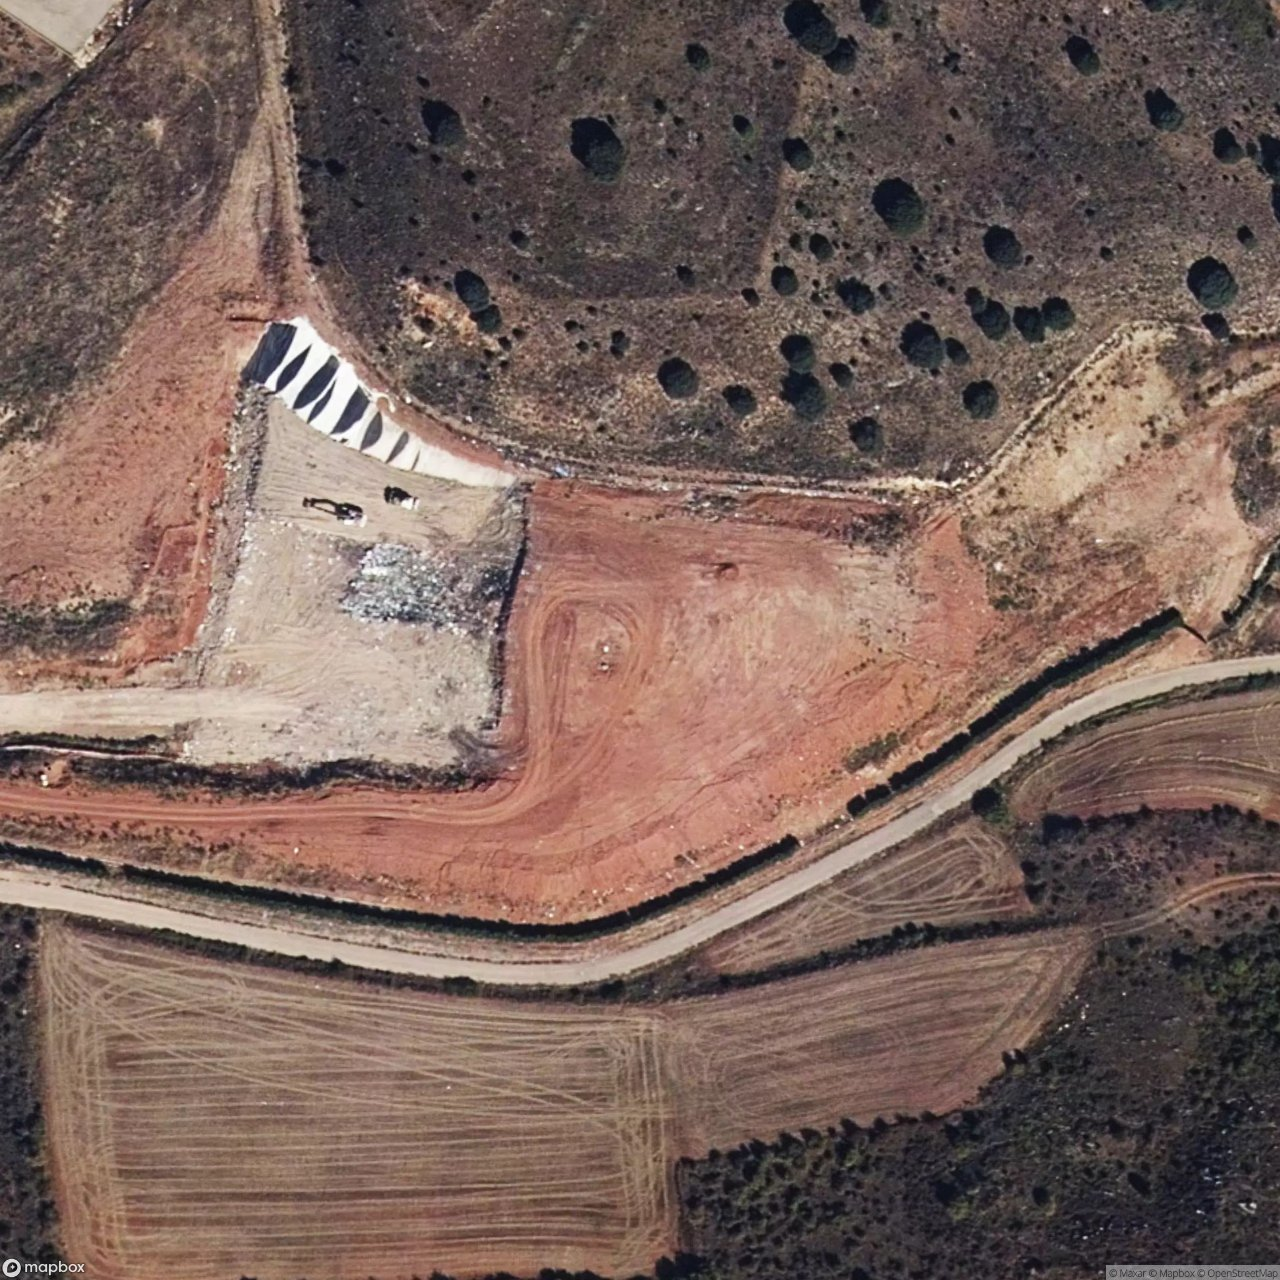dump_site: (322, 527, 520, 645)
